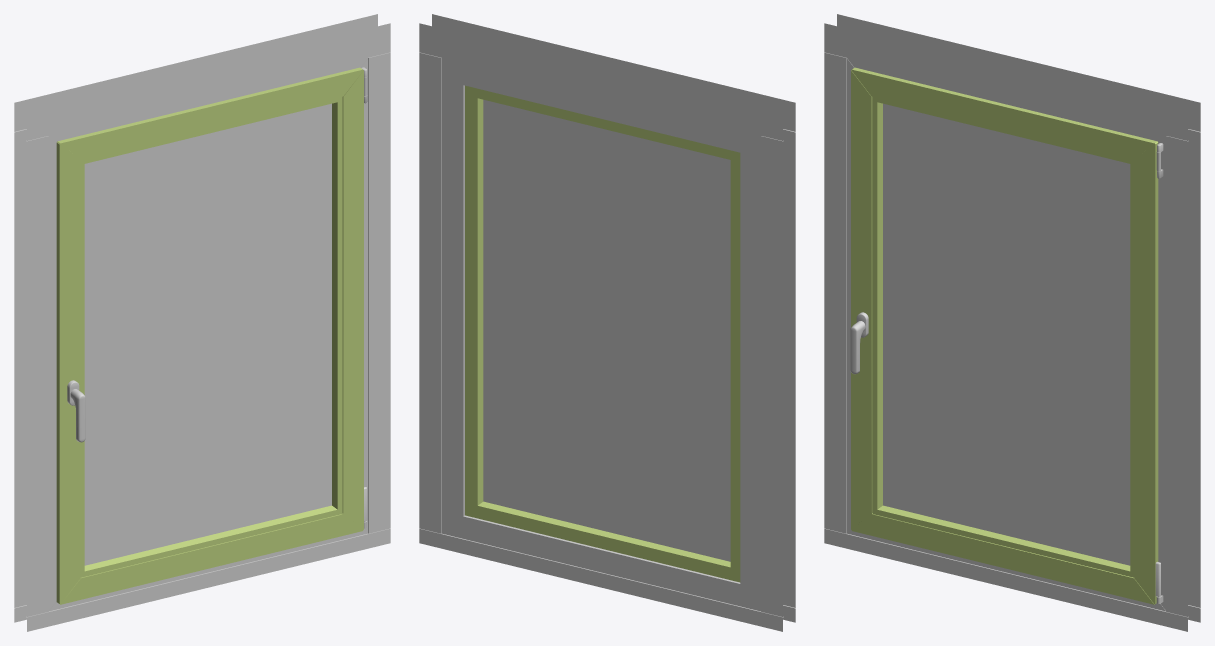
3 views of the same model, side by side, from view 1: azimuth 30°, elevation 25°; view 2: azimuth 150°, elevation 25°; view 3: azimuth 330°, elevation 25° (orthographic).
Visible parts, largest first — view 1: #WIN0003_Window.008, #WIN0003_Frame, carcasa, #WIN0003_Handle.001; view 2: #WIN0003_Window.009, #WIN0003_Frame, carcasa; view 3: #WIN0003_Window.008, #WIN0003_Frame, carcasa, #WIN0003_Handle.001.
Part boxes in pixels (x1=…): #WIN0003_Window.008: x1=84, y1=103, x2=331, y2=565; #WIN0003_Frame: x1=14, y1=14, x2=390, y2=631; carcasa: x1=56, y1=67, x2=363, y2=604; #WIN0003_Handle.001: x1=70, y1=389, x2=85, y2=442; #WIN0003_Window.009: x1=483, y1=99, x2=730, y2=561; #WIN0003_Frame: x1=419, y1=14, x2=795, y2=631; carcasa: x1=465, y1=85, x2=740, y2=582; #WIN0003_Window.008: x1=883, y1=103, x2=1130, y2=565; #WIN0003_Frame: x1=824, y1=14, x2=1200, y2=631; carcasa: x1=851, y1=67, x2=1158, y2=604; #WIN0003_Handle.001: x1=850, y1=321, x2=865, y2=374.
Bounding box in the file's own units: 104 × 142 × 12.8.
